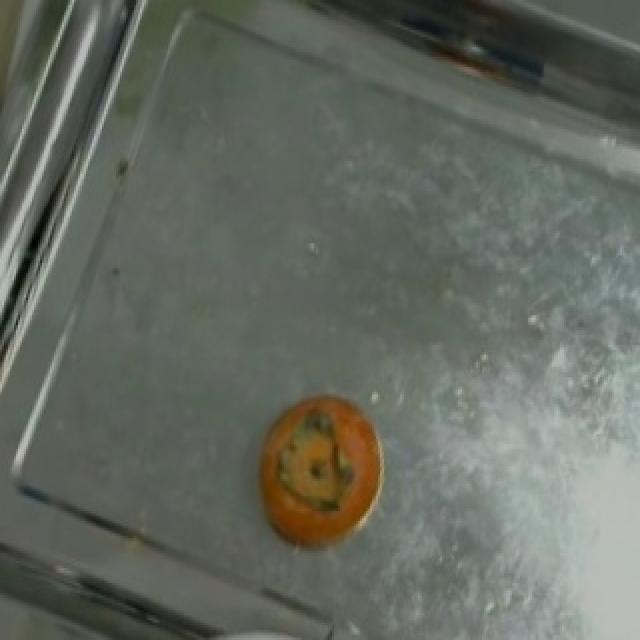Fruit: (238, 374, 406, 566)
